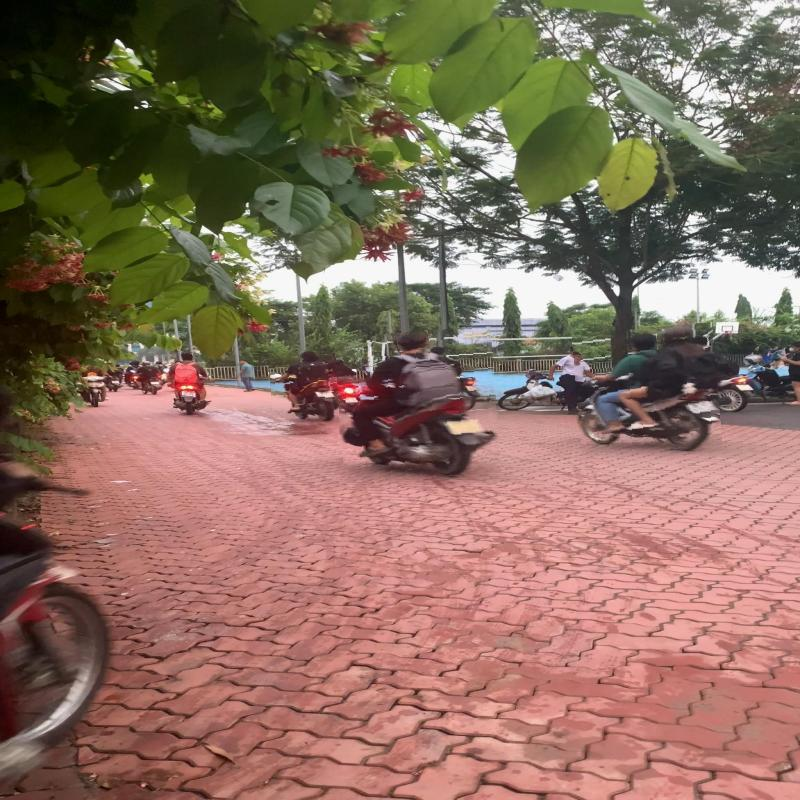licenseplate: (314, 391, 336, 400), (181, 390, 197, 398)
motorcyclist: (336, 328, 498, 480), (574, 326, 720, 454), (269, 349, 338, 424), (162, 351, 215, 416)
nohelmet: (396, 330, 430, 352), (628, 331, 657, 350), (302, 351, 320, 361), (180, 352, 194, 361)
